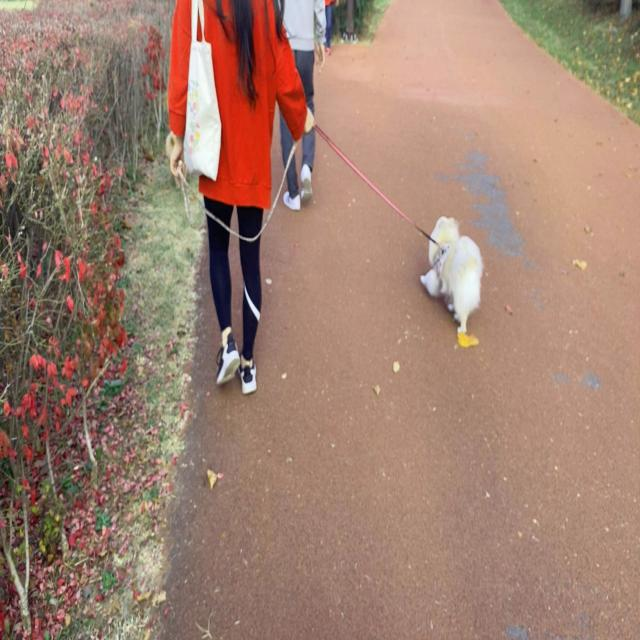Leashed_Dog: (255, 108, 484, 335)
